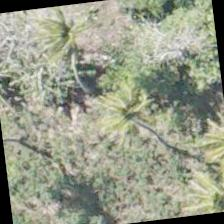Kelapa_Sawit: (79, 63, 179, 163), (16, 0, 115, 87), (174, 150, 223, 217)
